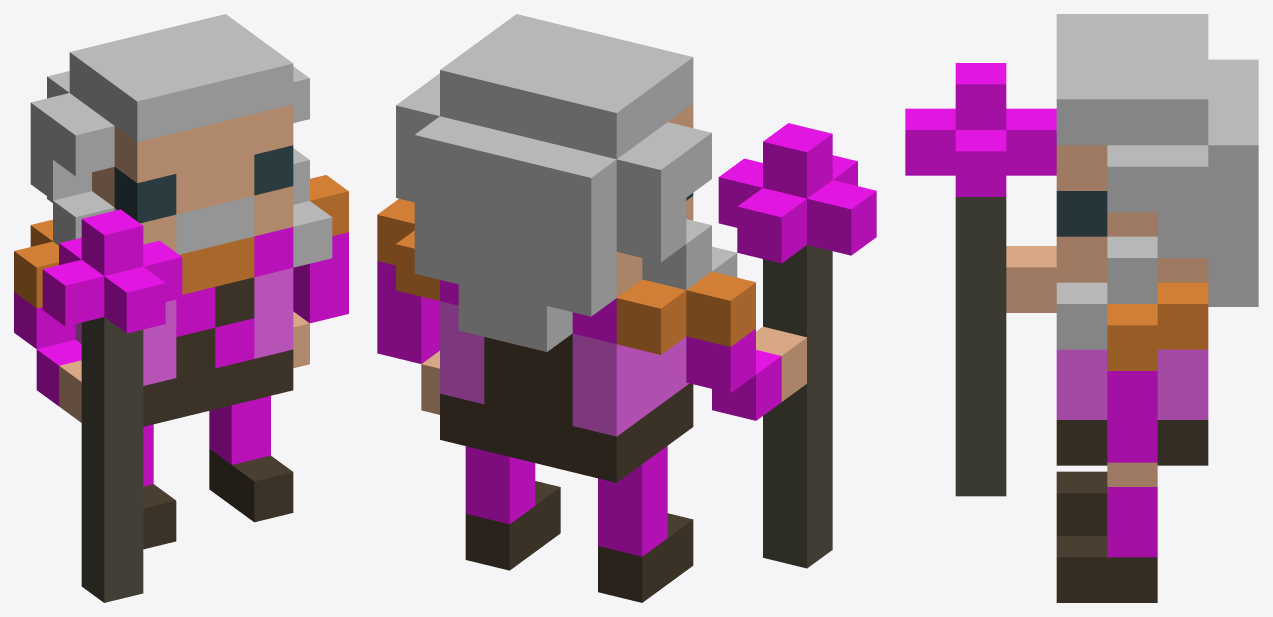
Rendered from lord.obj.
3 renders of one model, left to right at view 1: azimuth 30°, elevation 25°; view 2: azimuth 150°, elevation 25°; view 3: azimuth 270°, elevation 25°, orthographic. The views are drawn at different scales.
Bounding box in the file's own units: 0.9 × 1.1 × 0.7.
Materials: 1 (1 with a texture image).
